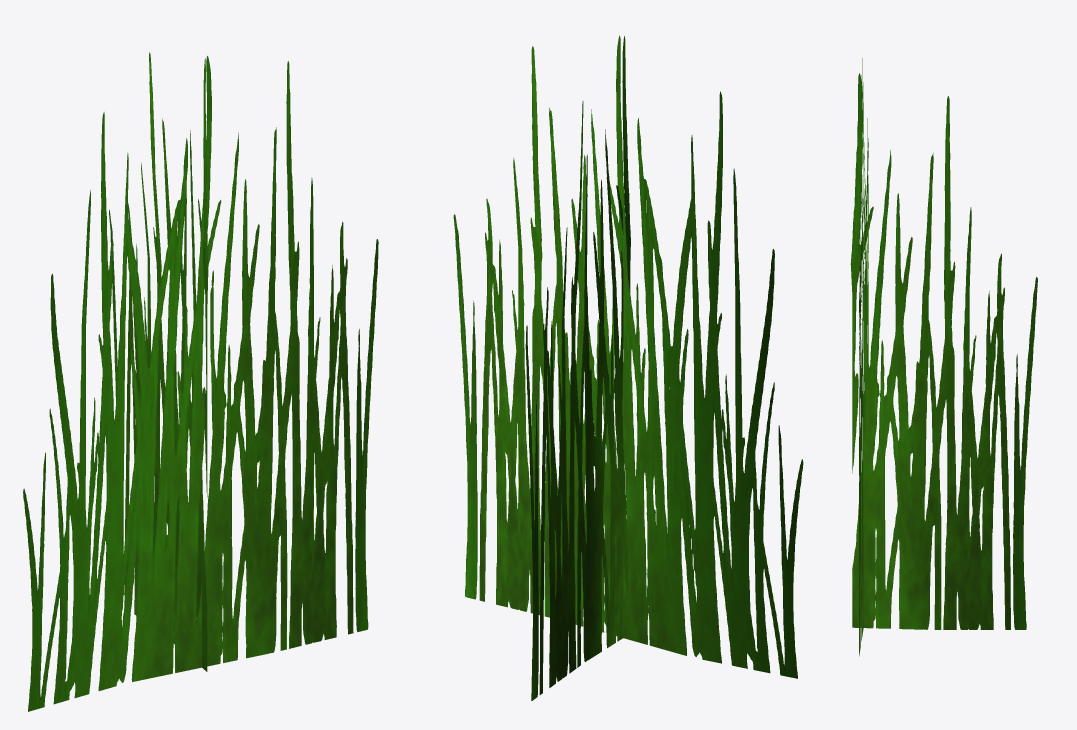
The model's file is SM_grass_02.glb.
3 views of the same model, side by side, from view 1: azimuth 30°, elevation 25°; view 2: azimuth 150°, elevation 25°; view 3: azimuth 270°, elevation 25° (orthographic). The views are drawn at different scales.
Visible parts, largest first — view 1: SM_grass_02; view 2: SM_grass_02; view 3: SM_grass_02.
Boxes of the visible parts, x1,y1,x2,y2 form: SM_grass_02: (23, 52, 378, 711); SM_grass_02: (453, 35, 803, 700); SM_grass_02: (850, 58, 1037, 656).
Size of the model in its own units: 0.2989 by 0.4533 by 0.1624.
1 material, 1 textured.
